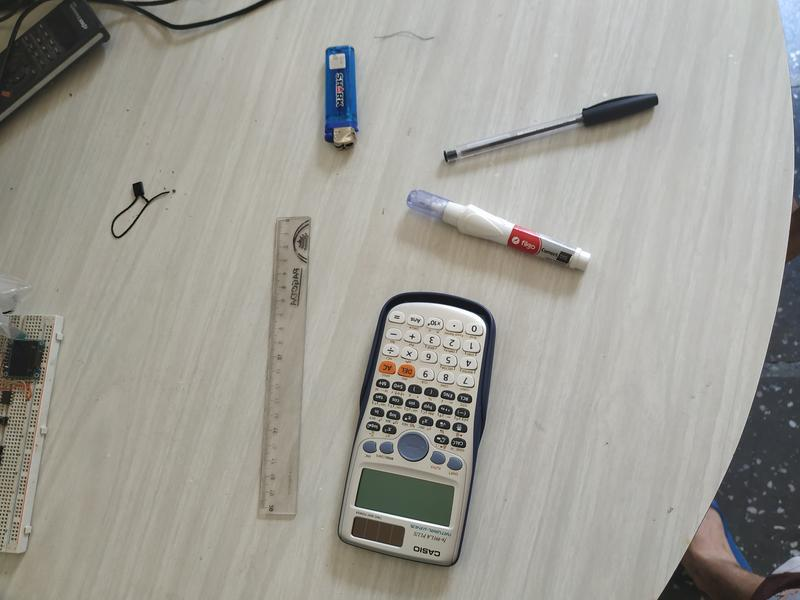calculadora: (333, 275, 499, 578)
corrector: (403, 178, 597, 277)
encendedor: (314, 39, 367, 156)
lapicera: (440, 85, 664, 172)
regla: (252, 208, 316, 532)
